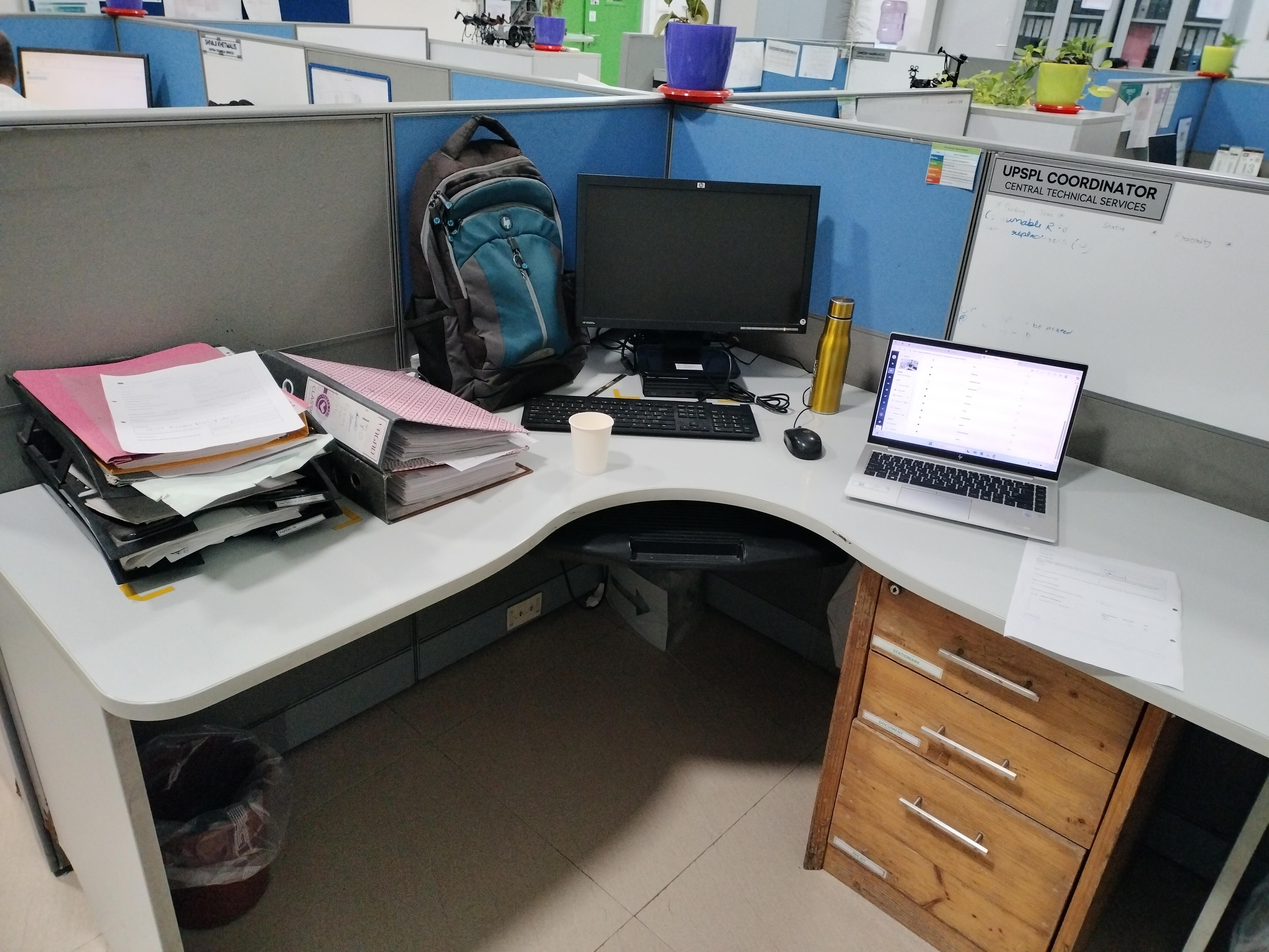StickyNotes: (920, 136, 981, 199)
bag: (395, 112, 586, 399)
bottle: (809, 289, 859, 421)
desktop: (570, 167, 822, 391)
file: (258, 346, 540, 536)
filetray: (2, 335, 358, 605)
laptop: (836, 323, 1095, 560)
mouse: (779, 423, 829, 467)
mug: (566, 407, 615, 481)
nameplate: (979, 152, 1179, 228)
page: (996, 535, 1194, 711)
vase: (648, 18, 745, 111)
